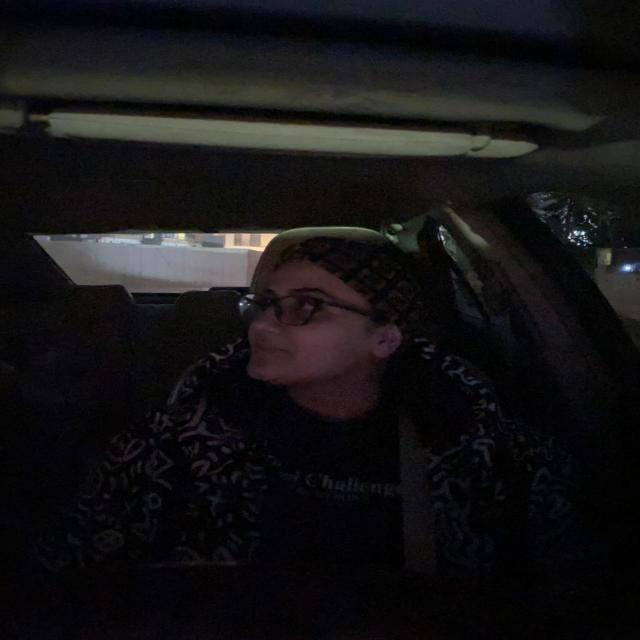LeftRight: (233, 232, 442, 388)
